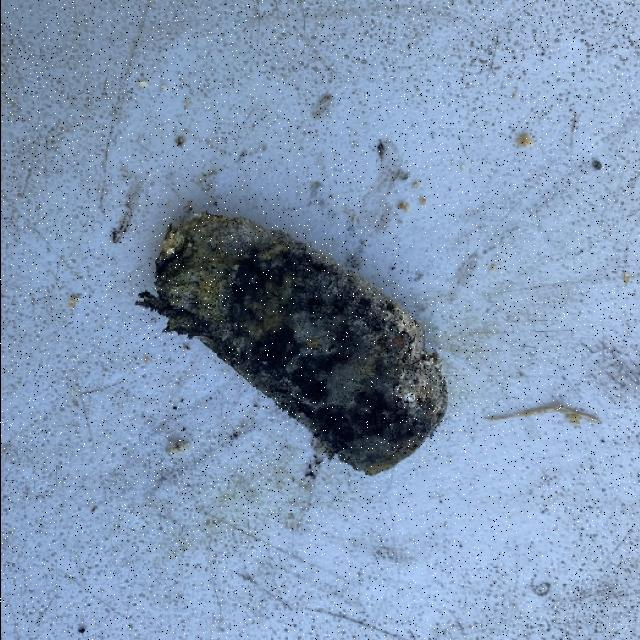organik: (160, 203, 450, 471)
